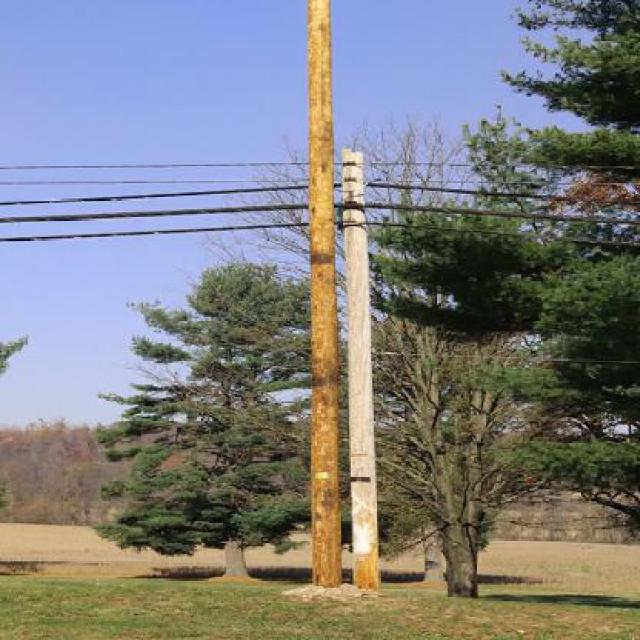pole: (329, 143, 418, 579)
